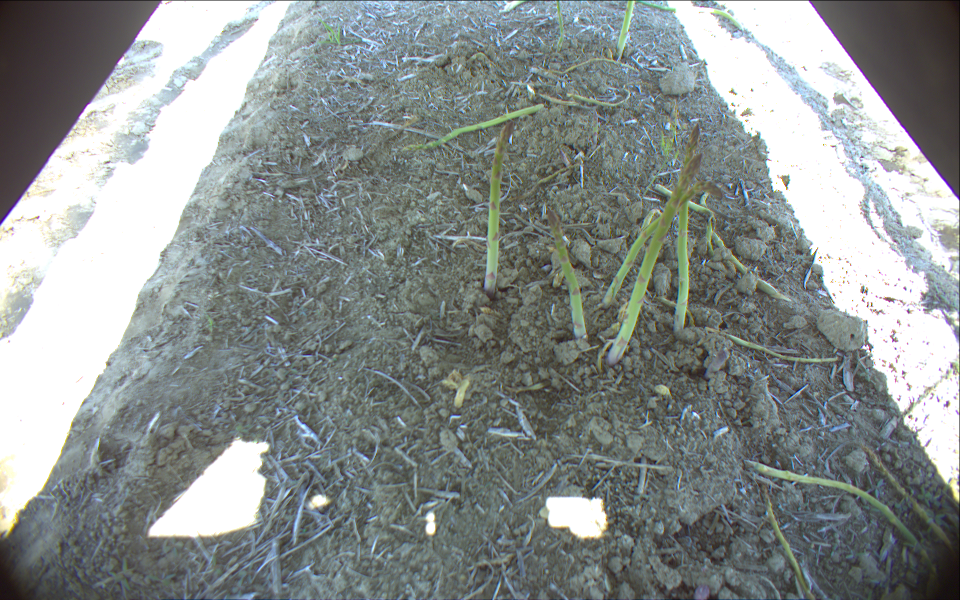aspa: (604, 152, 704, 371), (597, 177, 725, 308), (671, 120, 706, 338), (542, 202, 589, 345), (482, 108, 516, 295), (611, 1, 638, 62)
